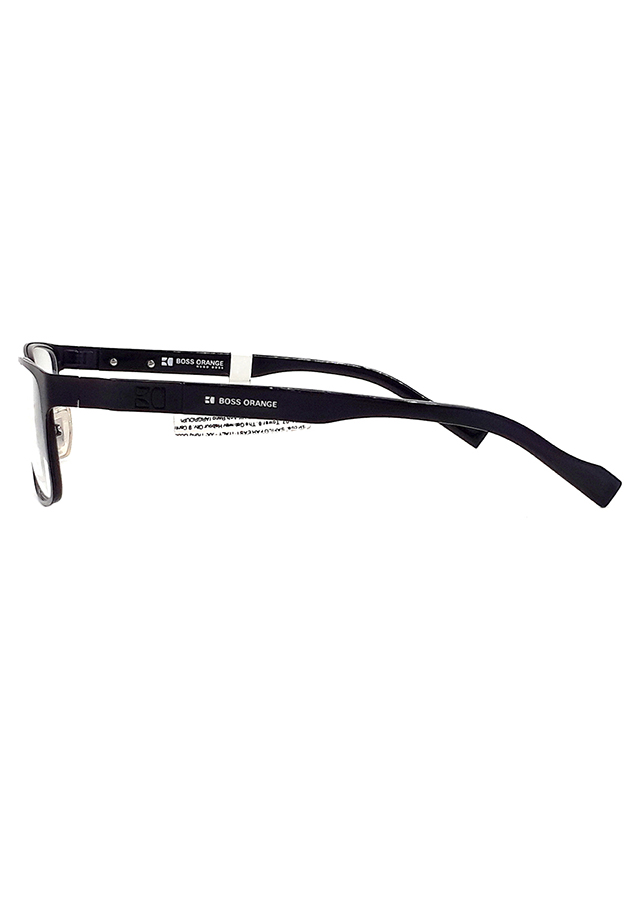Hugo Boss: (197, 391, 281, 412)
